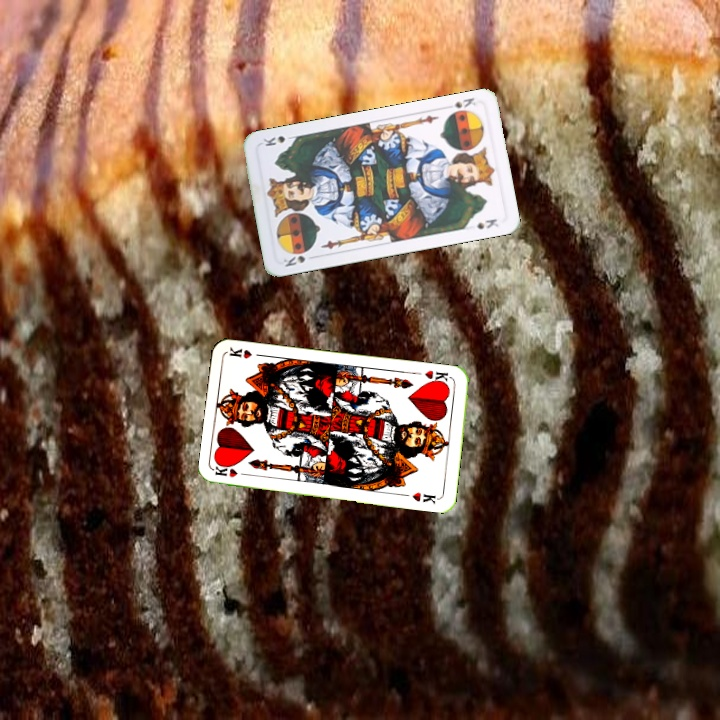HK: (212, 462, 253, 480), (421, 366, 454, 387)
SK: (279, 252, 319, 269), (450, 93, 478, 111)
